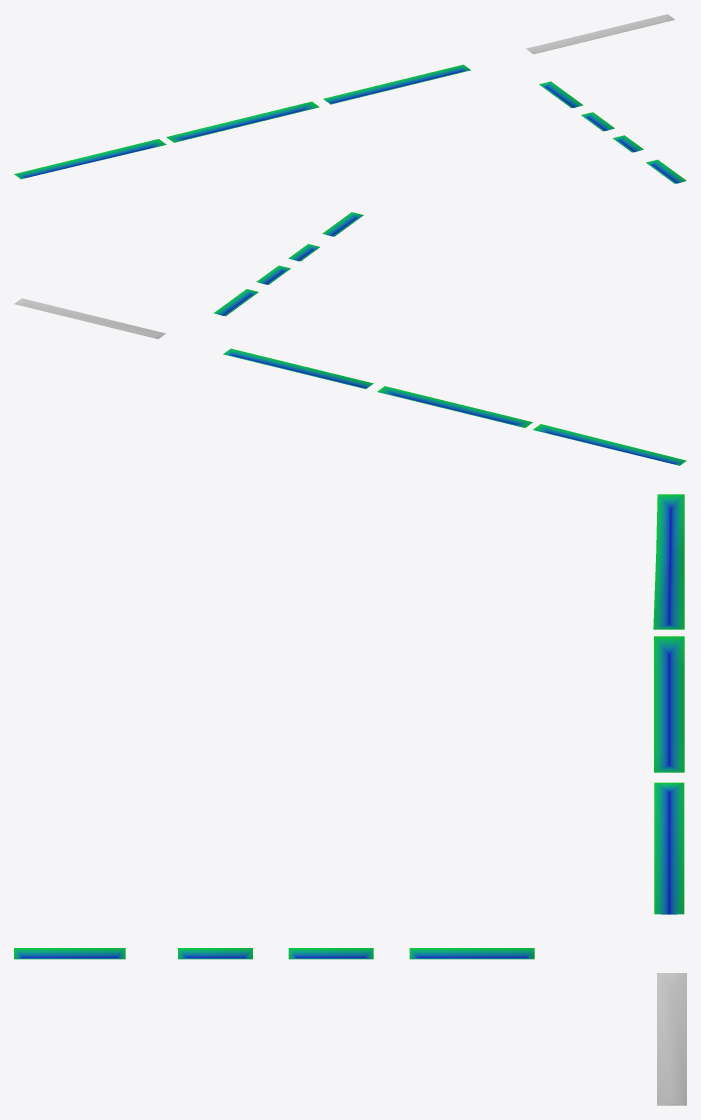
File: NBSS_Parts.fbx
3 views of the same model, one above another, from view 1: azimuth 30°, elevation 25°; view 2: azimuth 150°, elevation 25°; view 3: azimuth 270°, elevation 25° (orthographic). The views are drawn at different scales.
Parts seen in each view (by area): view 1: NBSS_01, zNBSS_04, NBSS_00, zNBSS_01, NBSS_02, zNBSS_03, NBSS_03; view 2: NBSS_01, zNBSS_04, NBSS_00, zNBSS_01, NBSS_02; view 3: NBSS_01, NBSS_00, zNBSS_01, zNBSS_04, NBSS_02, zNBSS_03, NBSS_03, zNBSS_02.
Part boxes in pixels (<box>): NBSS_01: <box>166,101,319,142</box>; zNBSS_04: <box>526,14,674,54</box>; NBSS_00: <box>323,64,470,104</box>; zNBSS_01: <box>14,139,166,179</box>; NBSS_02: <box>539,81,583,108</box>; zNBSS_03: <box>646,159,686,183</box>; NBSS_03: <box>581,112,614,131</box>; NBSS_01: <box>377,386,532,427</box>; zNBSS_04: <box>14,298,165,339</box>; NBSS_00: <box>223,348,373,388</box>; zNBSS_01: <box>533,424,686,465</box>; NBSS_02: <box>214,289,258,316</box>; NBSS_01: <box>654,636,684,772</box>; NBSS_00: <box>654,782,684,914</box>; zNBSS_01: <box>653,494,684,629</box>; zNBSS_04: <box>657,973,686,1105</box>; NBSS_02: <box>409,948,534,959</box>; zNBSS_03: <box>14,948,125,959</box>; NBSS_03: <box>288,948,373,959</box>; zNBSS_02: <box>178,948,252,959</box>.
Size of the model in its own units: 28338 by 127 by 13186.
